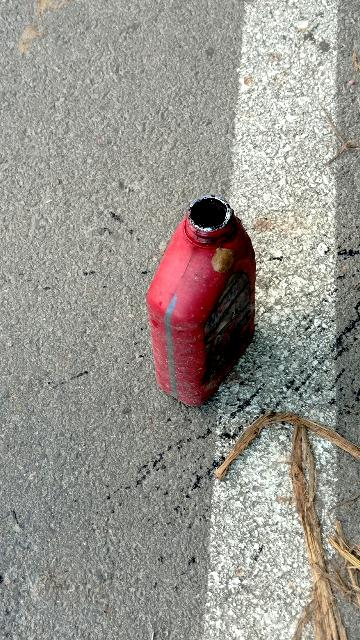bottle: (146, 196, 254, 407)
